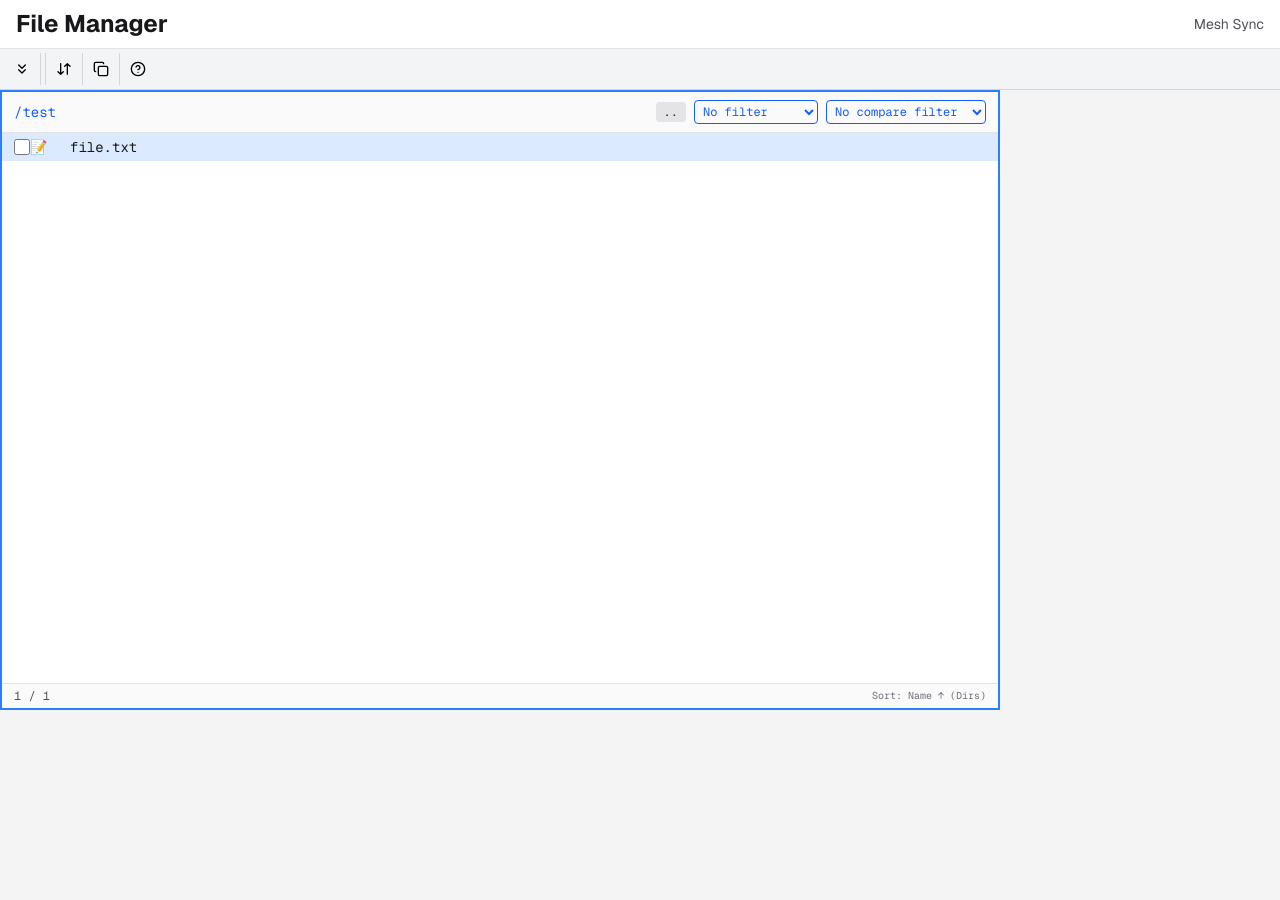
[REQ-TOOLBAR_SYSTEM] IMPL-TOOLBAR_COMPONENT_WorkspaceToolbarDisplayMode › shows named mode with visible Action labels after two toggles
What coordinates should you click on to do the following:
click the button with test id "toolbar-compact-toggle"
I would click on:
 (22, 69)
Its box is [8,57,36,81].
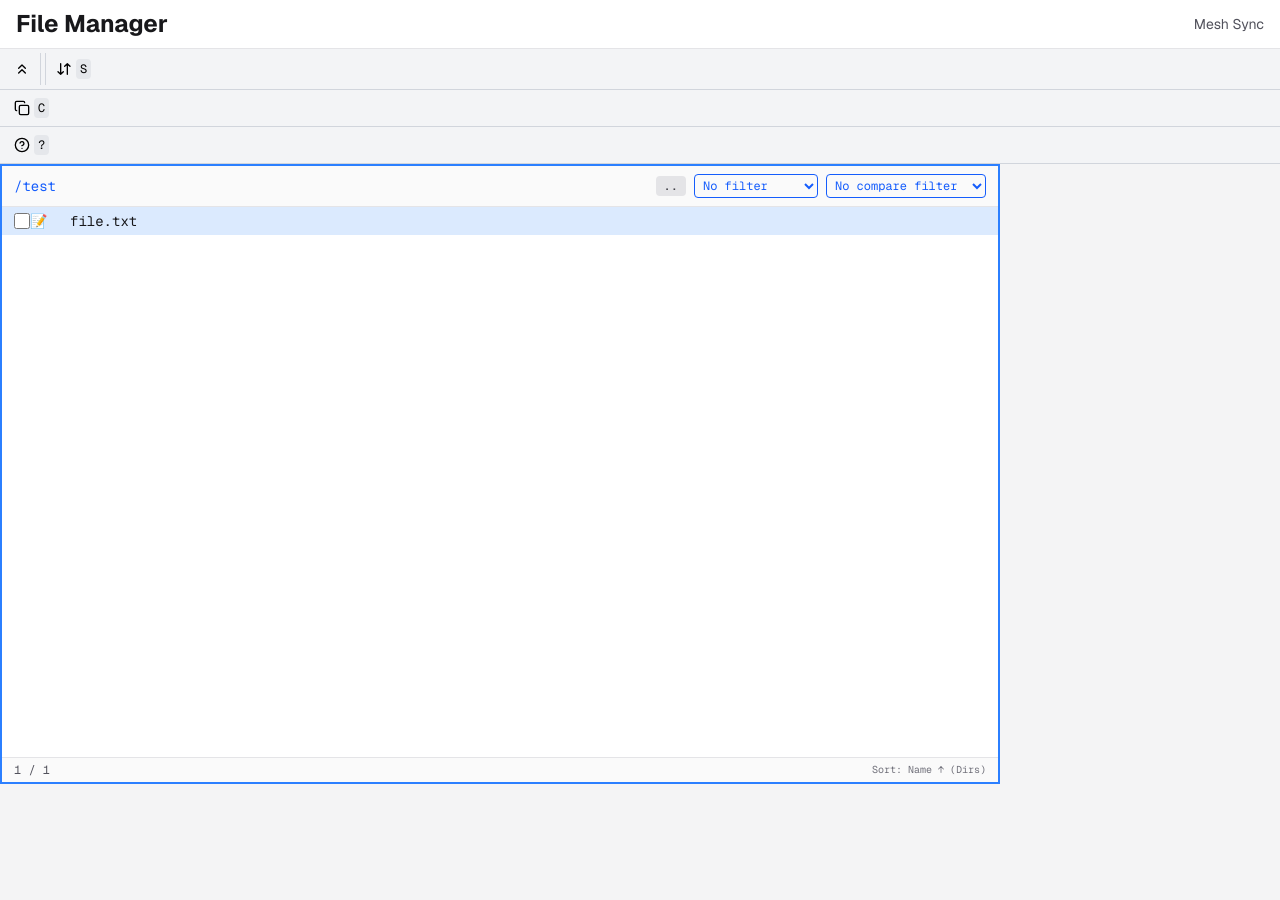
What coordinates should you click on to do the following:
click the button with test id "toolbar-compact-toggle"
I would click on:
 (22, 69)
Its box is [8,57,36,81].
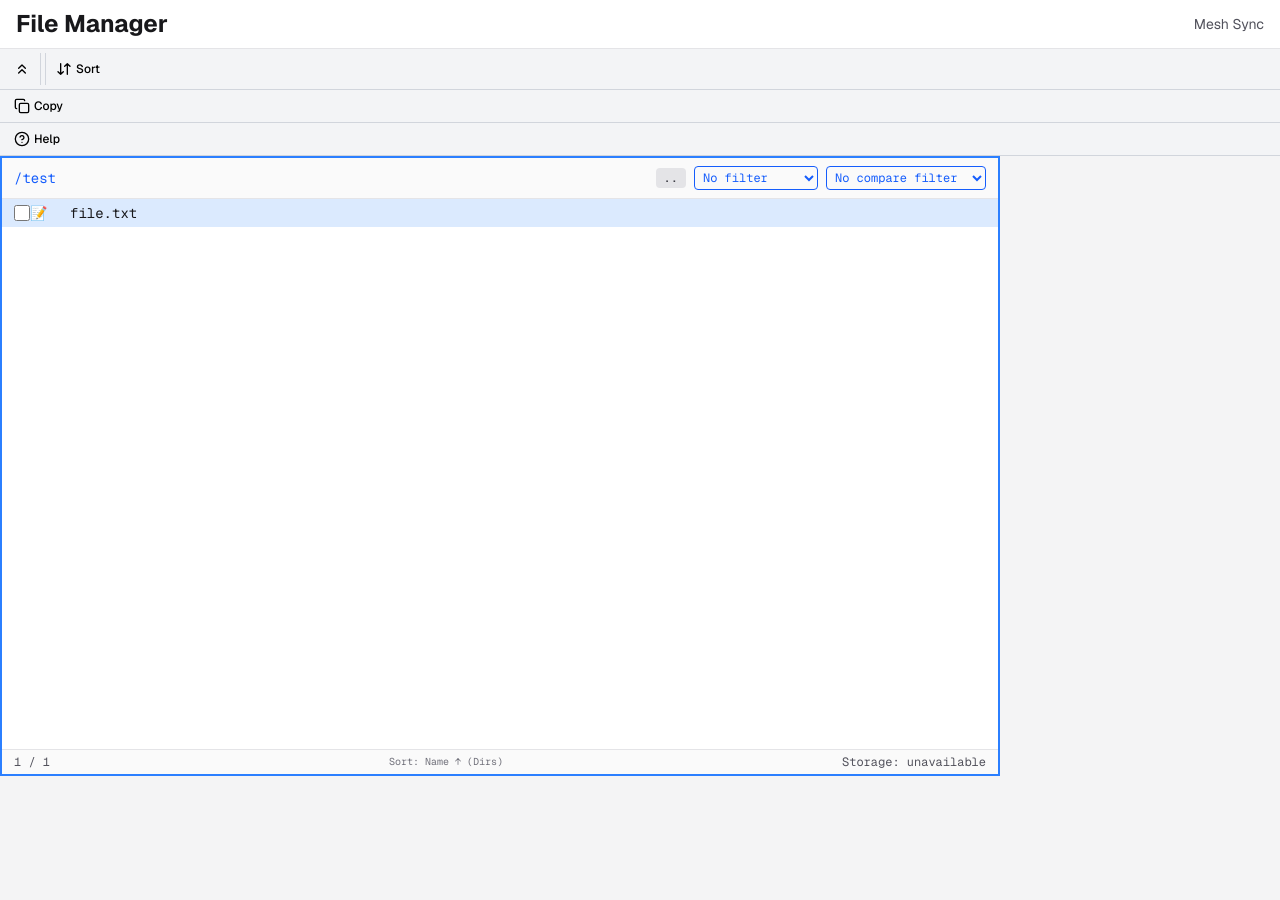
Check: the text "Copy" is shown, box [34,98,63,114]
